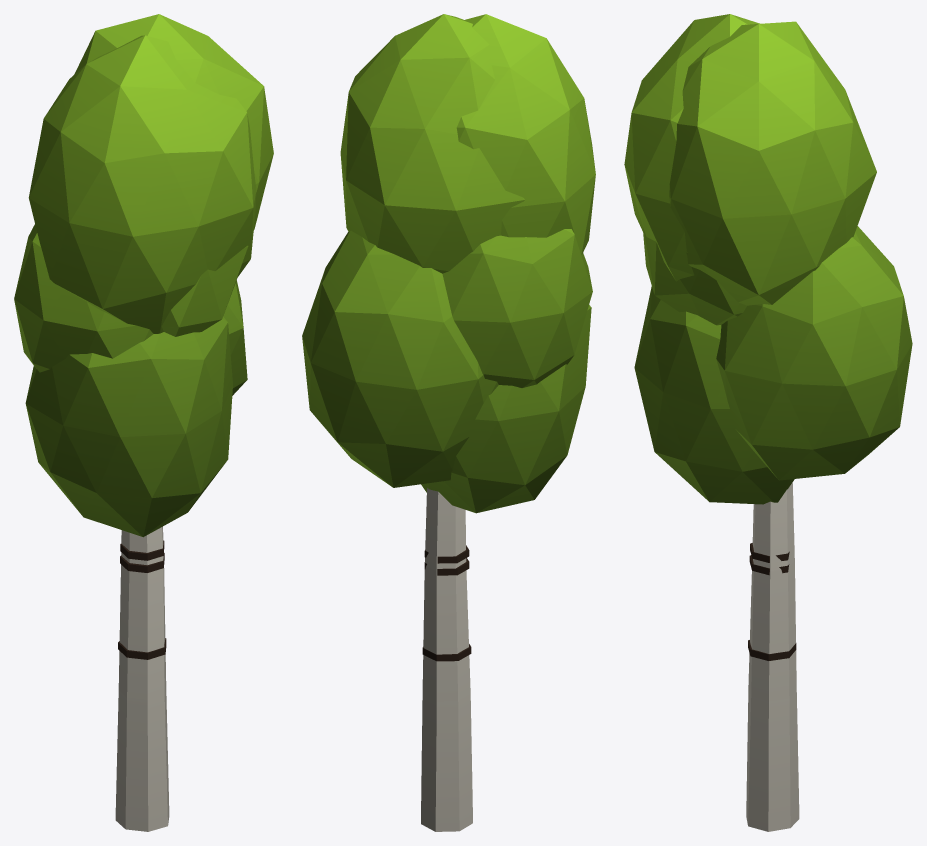
The model's file is tree_birch_01.fbx.
3 views of the same model, side by side, from view 1: azimuth 30°, elevation 25°; view 2: azimuth 150°, elevation 25°; view 3: azimuth 270°, elevation 25° (orthographic).
Parts seen in each view (by area): view 1: tree_birch_01_LOD0; view 2: tree_birch_01_LOD0; view 3: tree_birch_01_LOD0.
Part boxes in pixels (<box>): tree_birch_01_LOD0: <box>14,14,273,831</box>; tree_birch_01_LOD0: <box>302,14,595,831</box>; tree_birch_01_LOD0: <box>624,14,912,831</box>.
Size of what is drawn, in the model's own units: 1.45 by 4.83 by 1.57.
1 material, 1 textured.
